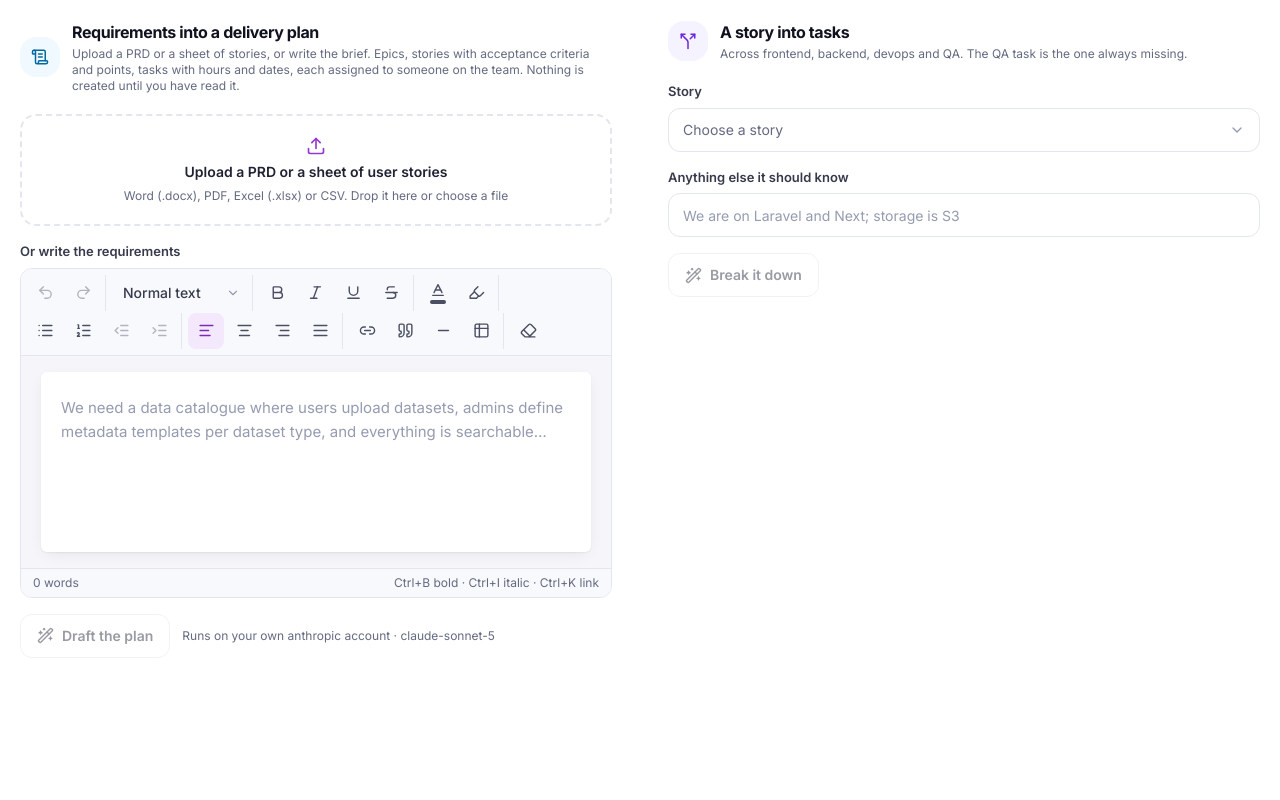
Test: AiWorkshop › flags a discipline the model invented
Click the dropdown labelled "Choose a story".
click(733, 129)  # box [668,108,1260,152]
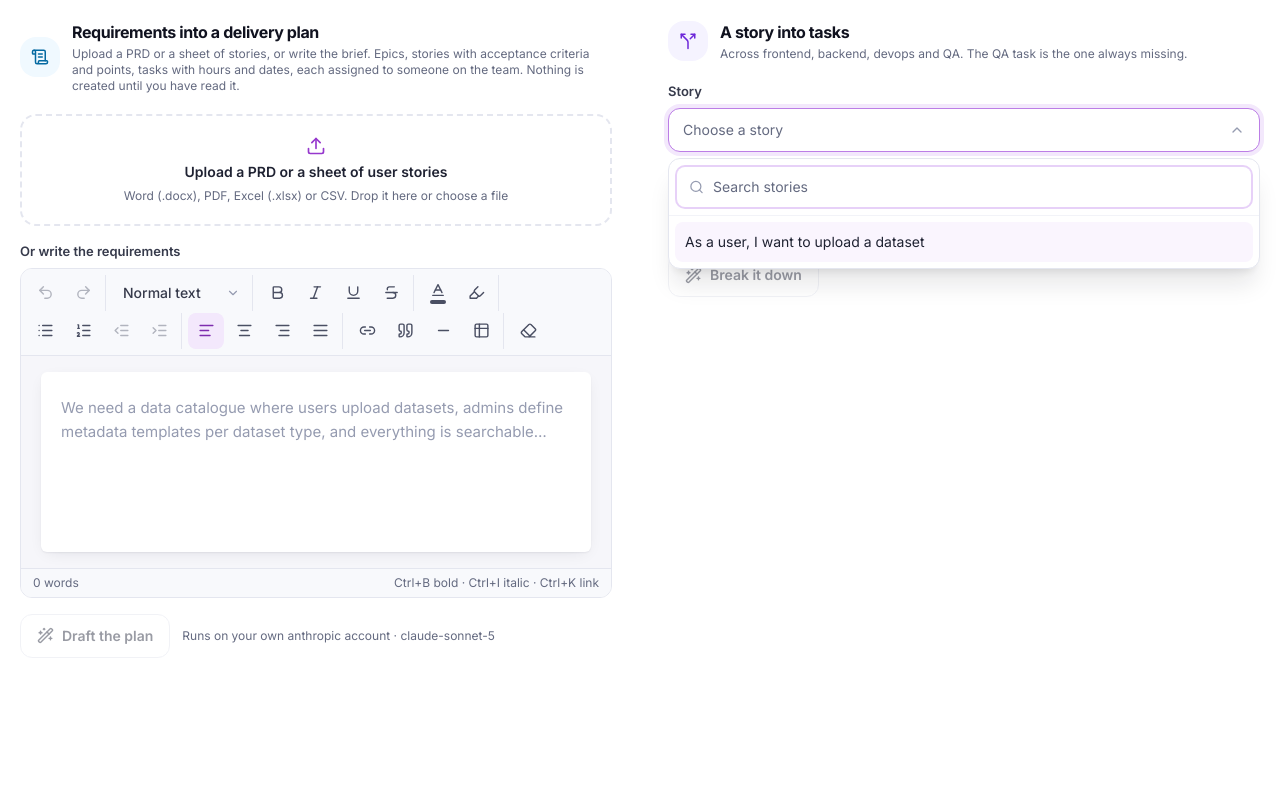
Type keys "As a user, I want to upload a dataset"
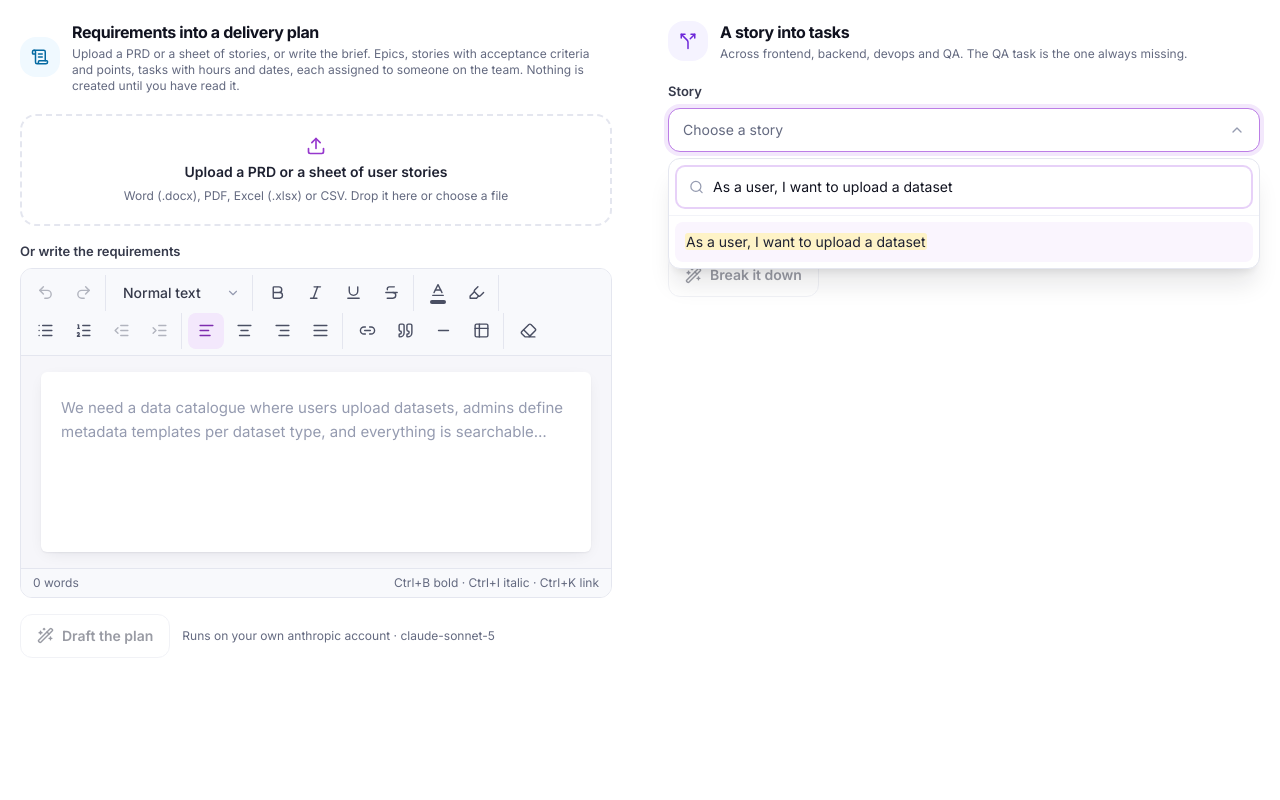
Click the option "As a user, I want to upload a dataset".
click(806, 241)  # box [675,222,1253,262]
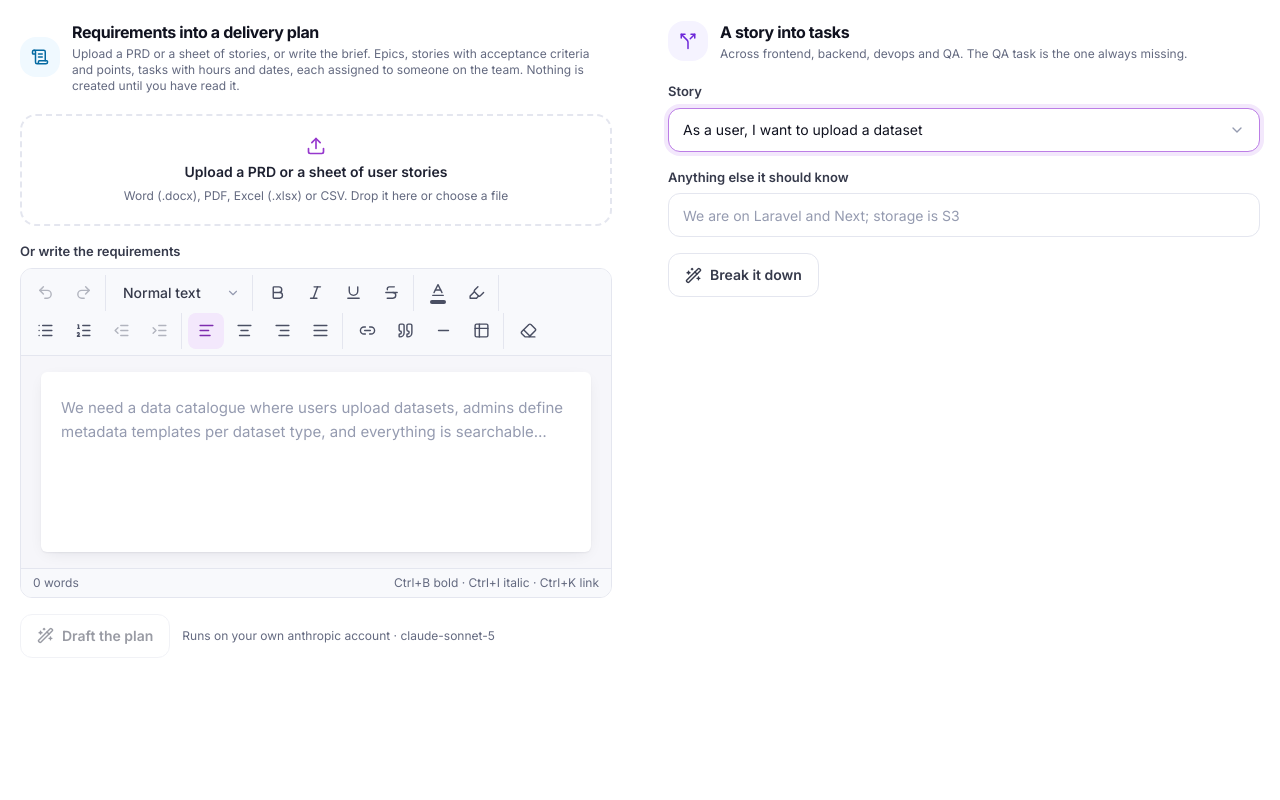
Click the button "Break it down".
click(743, 275)  # box [668,253,819,297]
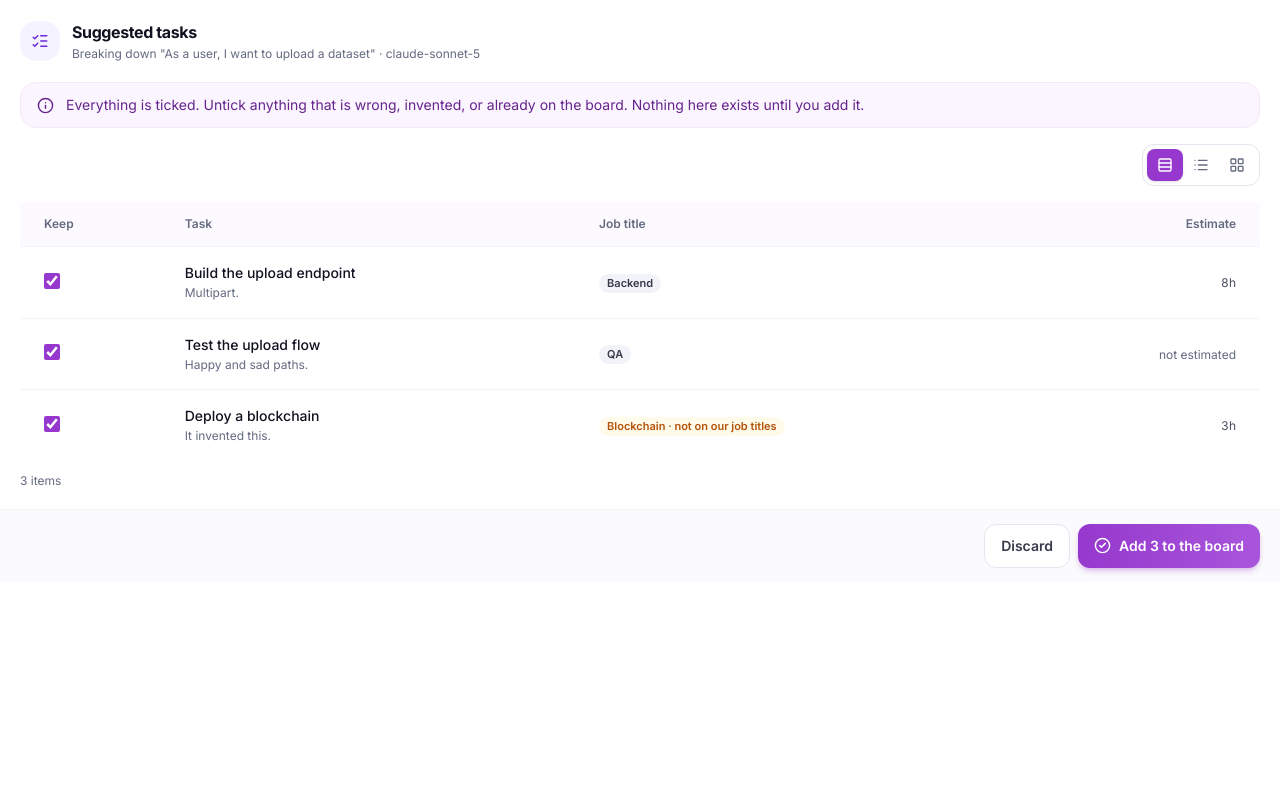
Expected: the text "Blockchain · not on our job titles" is shown, [599,417,785,436]
